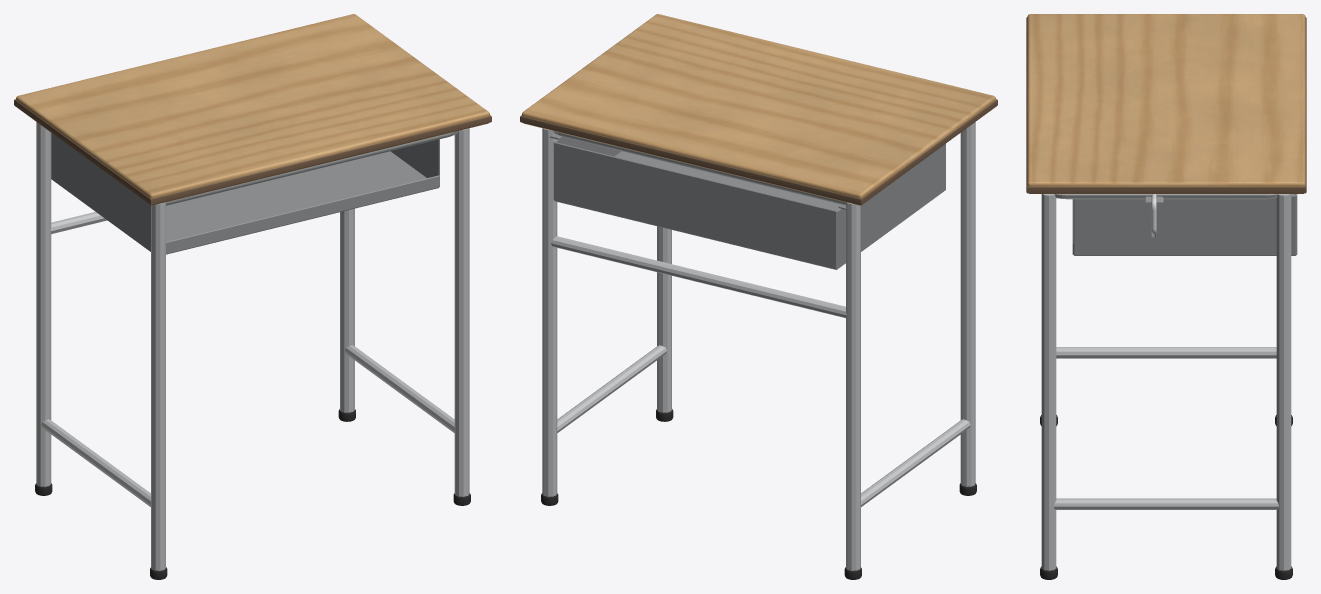
The model's file is student_desk.glb.
3 views of the same model, side by side, from view 1: azimuth 30°, elevation 25°; view 2: azimuth 150°, elevation 25°; view 3: azimuth 270°, elevation 25° (orthographic). The views are drawn at different scales.
Visible parts, largest first — view 1: student_desk; view 2: student_desk; view 3: student_desk.
Boxes of the visible parts, x1,y1,x2,y2 form: student_desk: (14, 14, 491, 579); student_desk: (520, 14, 997, 579); student_desk: (1026, 14, 1306, 579).
Size of the model in its own units: 0.6603 by 0.72 by 0.453.
Materials: 6 (1 with a texture image).
